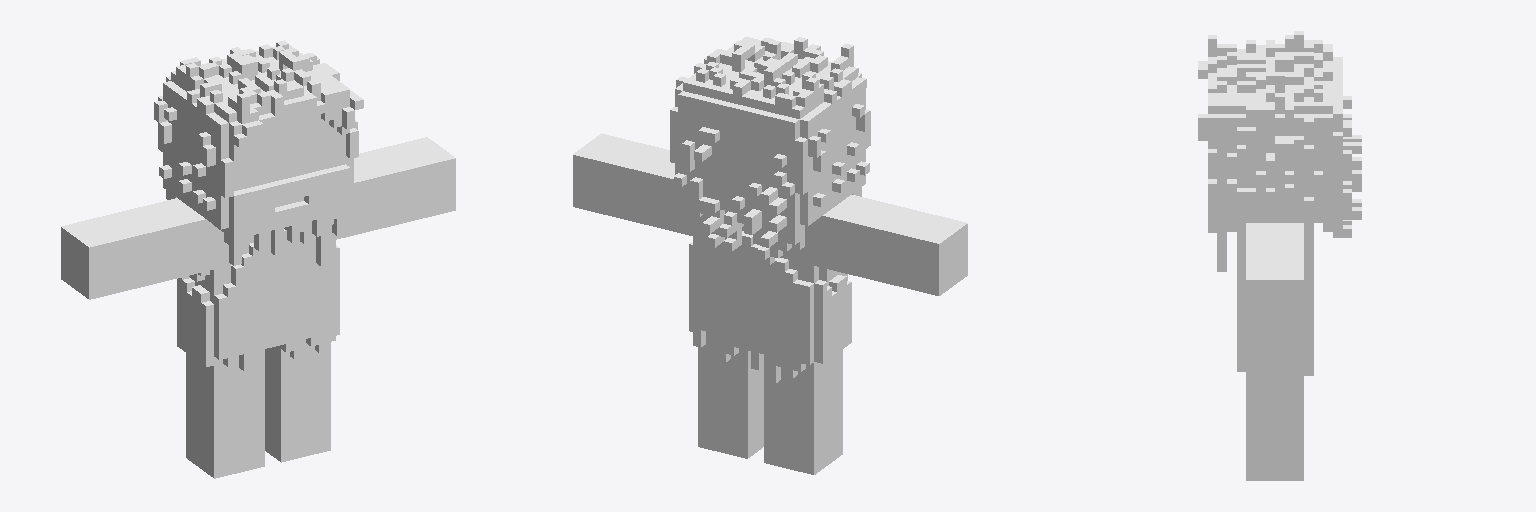
File: Soldier_01.obj
3 views of the same model, side by side, from view 1: azimuth 30°, elevation 25°; view 2: azimuth 150°, elevation 25°; view 3: azimuth 270°, elevation 25° (orthographic).
Parts seen in each view (by area): view 1: object 1; view 2: object 1; view 3: object 1.
Part boxes in pixels (bbox=[...]): object 1: bbox=[61, 40, 455, 478]; object 1: bbox=[573, 37, 967, 474]; object 1: bbox=[1198, 31, 1361, 480].
Size of the model in its own units: 4.4 by 4.5 by 1.7.